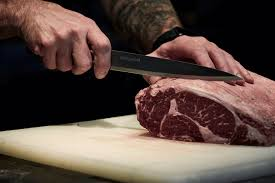knife: (28, 36, 246, 83)
